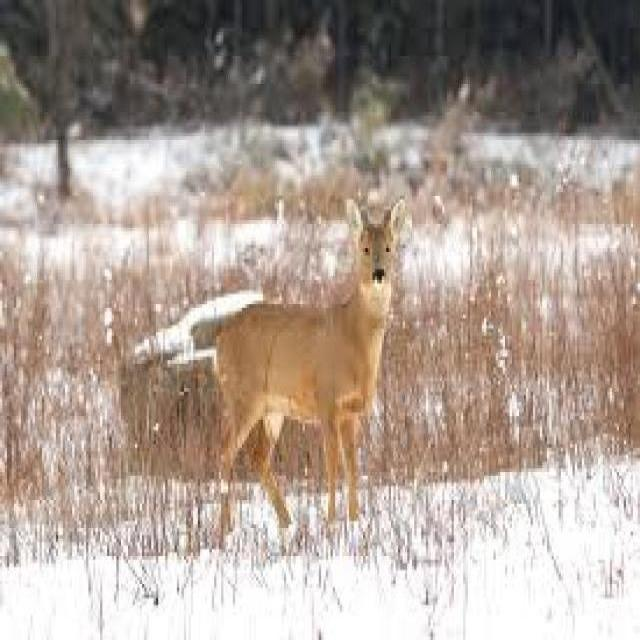deer: (194, 185, 416, 556)
